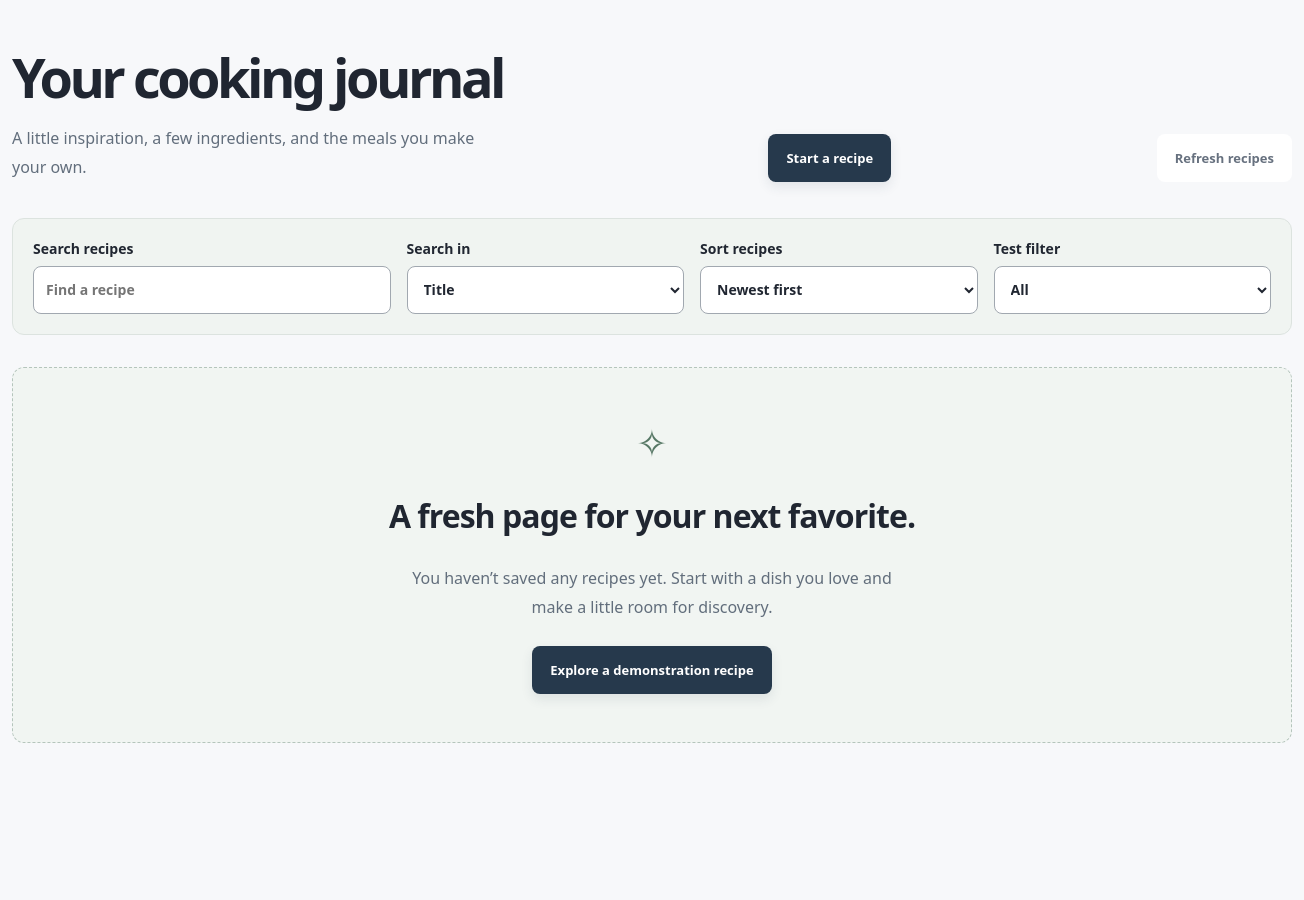
Scenario: distinguishes an empty journal from no search matches and clears the search
This screenshot has width=1304, height=900.
Expected: the heading "A fresh page for your next favorite." is shown, [389,494,915,538]
In the search field labelled "Search recipes": (212, 290) [33,266,390,314], type "missing"
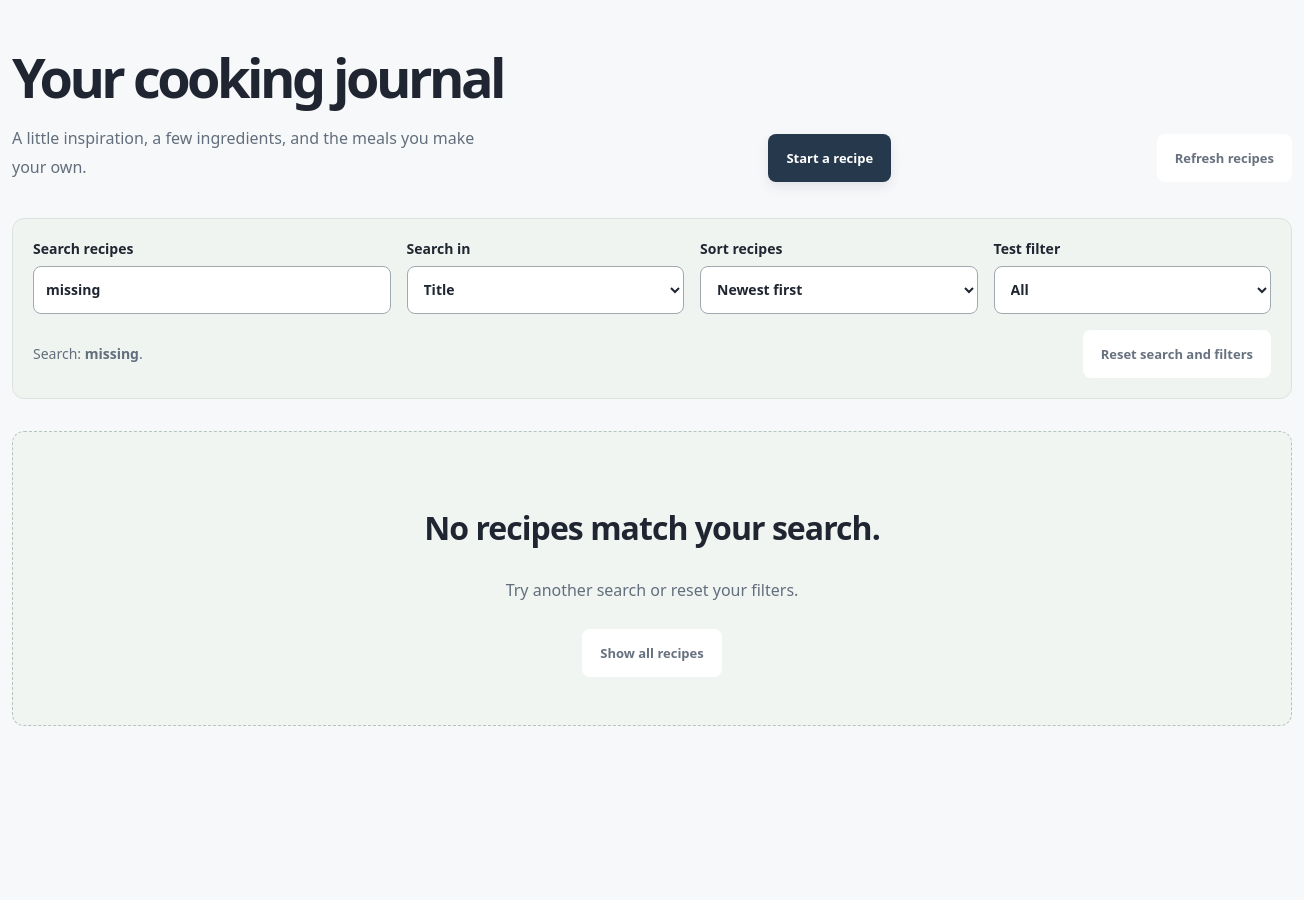
Now the heading "No recipes match your search." is shown, box [424,506,880,550]
Now the heading "fresh page" is gone
Click the button "Show all recipes": (652, 653) [582,629,722,677]
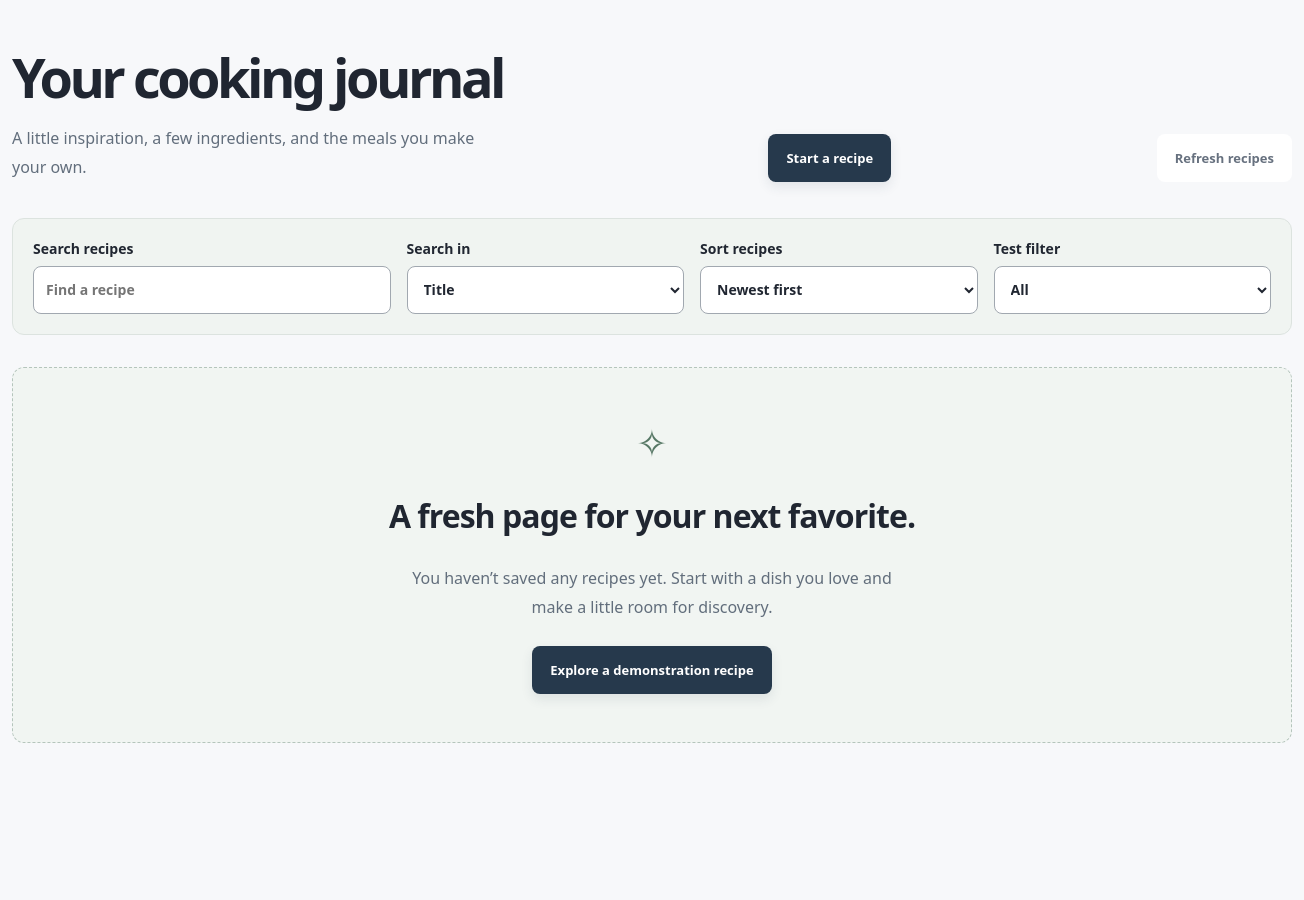
Now the heading "A fresh page for your next favorite." is shown, box [389,494,915,538]
Now the search field is empty, box [33,266,390,314]
